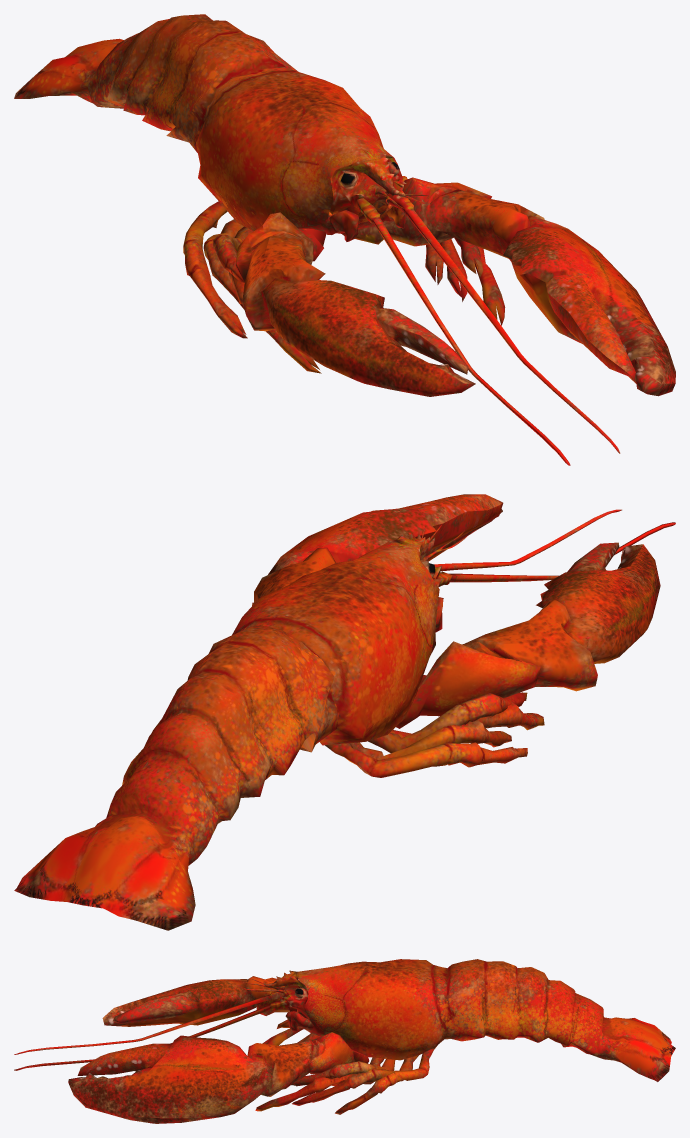
File: LobsterUnCooked.fbx
3 views of the same model, one above another, from view 1: azimuth 30°, elevation 25°; view 2: azimuth 150°, elevation 25°; view 3: azimuth 270°, elevation 25° (orthographic). The views are drawn at different scales.
Parts seen in each view (by area): view 1: Lobster_Body_low, Lobster_Claws_low, Lobster_Legs_04_low, Lobster_Legs_01_low, Lobster_Legs_03_low, Lobster_Legs_02_low; view 2: Lobster_Body_low, Lobster_Claws_low, Lobster_Legs_04_low, Lobster_Legs_02_low, Lobster_Legs_03_low, Lobster_Legs_01_low; view 3: Lobster_Body_low, Lobster_Claws_low, Lobster_Legs_01_low, Lobster_Legs_03_low, Lobster_Legs_04_low, Lobster_Legs_02_low.
Part boxes in pixels (x1,y1,x2,y2): Lobster_Body_low: (14, 14, 620, 465); Lobster_Claws_low: (235, 177, 675, 396); Lobster_Legs_04_low: (183, 176, 443, 338); Lobster_Legs_01_low: (229, 237, 505, 373); Lobster_Legs_03_low: (203, 219, 467, 335); Lobster_Legs_02_low: (213, 226, 483, 282); Lobster_Body_low: (14, 509, 675, 930); Lobster_Claws_low: (252, 494, 660, 728); Lobster_Legs_04_low: (325, 742, 527, 777); Lobster_Legs_02_low: (368, 692, 527, 753); Lobster_Legs_03_low: (350, 720, 511, 759); Lobster_Legs_01_low: (390, 702, 544, 737); Lobster_Body_low: (14, 959, 675, 1081); Lobster_Claws_low: (68, 976, 369, 1123); Lobster_Legs_01_low: (255, 1026, 384, 1111); Lobster_Legs_03_low: (292, 1033, 418, 1105); Lobster_Legs_04_low: (310, 1033, 433, 1114); Lobster_Legs_02_low: (277, 1019, 395, 1086).
Bounding box in the file's own units: 111 × 60.67 × 302.
1 material, 1 textured.
